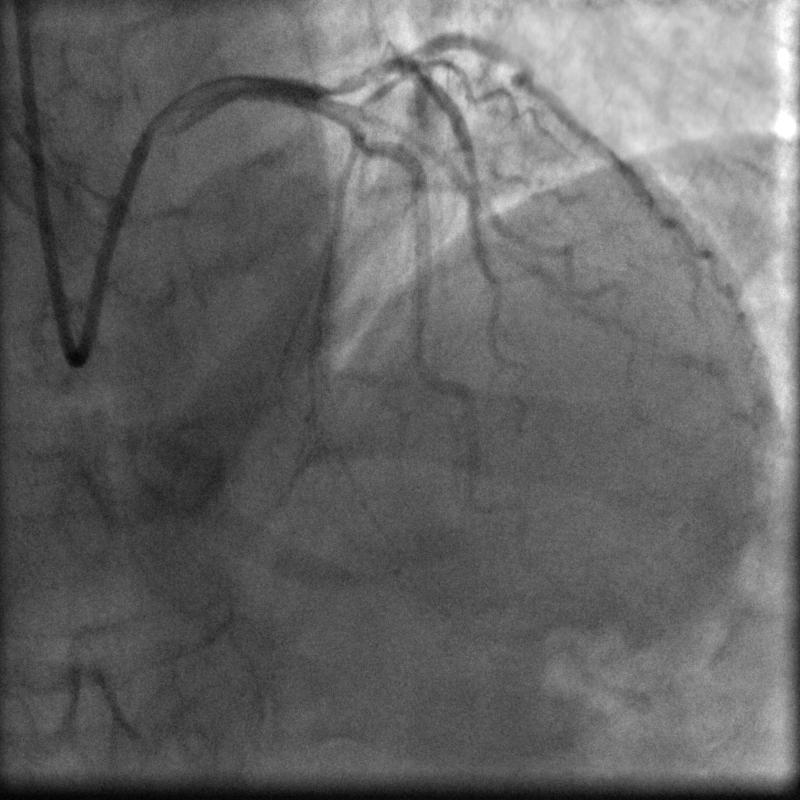Stenosis: (309, 68, 378, 98)
